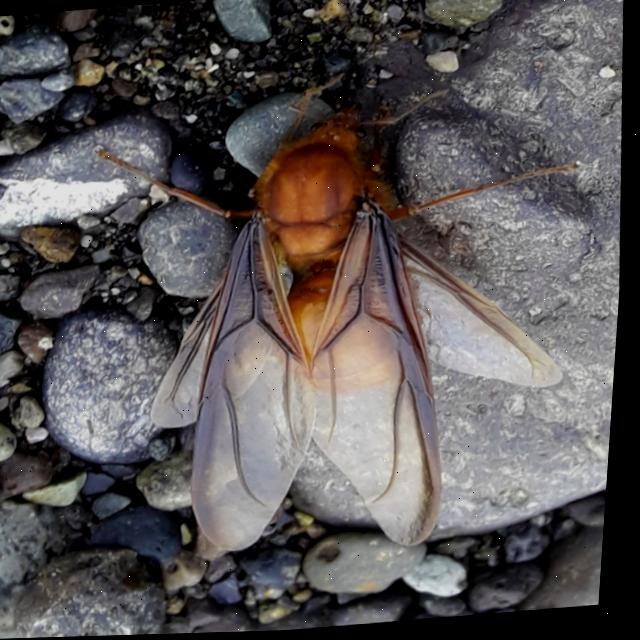Alive-Male-Alate: (70, 55, 609, 574)
